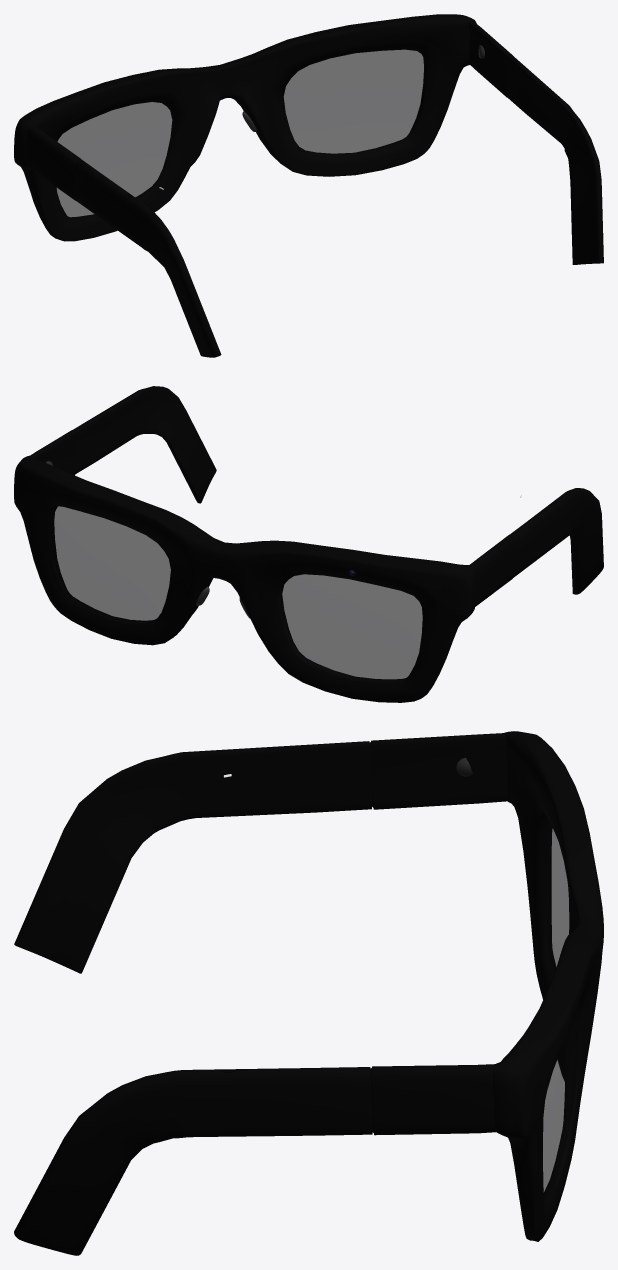
The model's file is glasses-6.glb.
3 renders of one model, top to bottom at view 1: azimuth 30°, elevation 25°; view 2: azimuth 150°, elevation 25°; view 3: azimuth 270°, elevation 25°, orthographic. The views are drawn at different scales.
Visible parts, largest first — view 1: Empty; view 2: Empty; view 3: Empty.
Part boxes in pixels (x1=…): Empty: x1=14, y1=14, x2=603, y2=357; Empty: x1=14, y1=386, x2=603, y2=702; Empty: x1=14, y1=731, x2=603, y2=1255.
Bounding box in the file's own units: 1.11 × 0.3444 × 0.8095.
6 materials, 1 textured.
